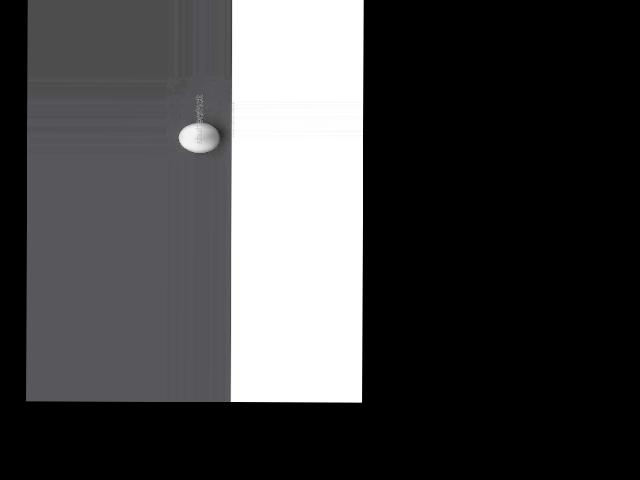egg: (178, 123, 219, 153)
